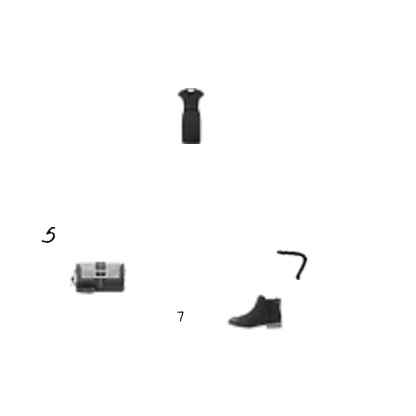1: (94, 321, 136, 363)
7: (72, 216, 94, 238)
8: (269, 185, 381, 297)
Shirt: (203, 339, 259, 395)
T-shirt/top: (287, 53, 371, 137), (388, 206, 410, 228)
